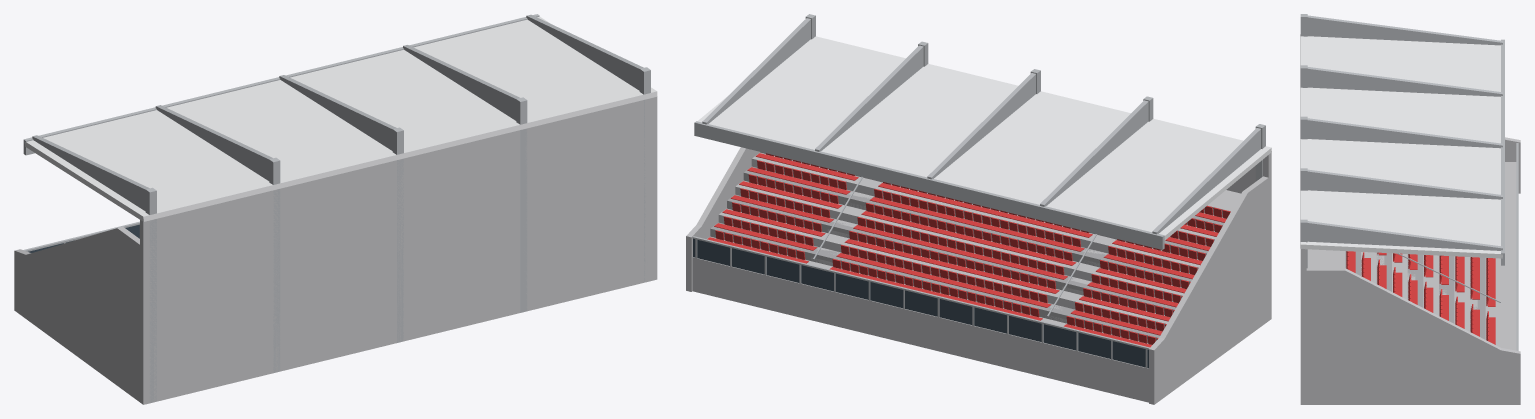
The model's file is grandstand.glb.
The picture shows the model from 3 angles, left to right: view 1: azimuth 30°, elevation 25°; view 2: azimuth 150°, elevation 25°; view 3: azimuth 270°, elevation 25°; orthographic projection. The views are drawn at different scales.
Parts seen in each view (by area): view 1: stand, roof; view 2: roof, stand, seats, stairs; view 3: roof, stand, seats, stairs.
Part boxes in pixels (bbox=[...]): stand: bbox=[14, 97, 657, 404]; roof: bbox=[23, 14, 657, 402]; roof: bbox=[694, 14, 1271, 249]; stand: bbox=[686, 147, 1271, 404]; seats: bbox=[707, 153, 1230, 347]; stairs: bbox=[811, 176, 1115, 325]; roof: bbox=[1300, 14, 1504, 268]; stand: bbox=[1300, 137, 1520, 404]; seats: bbox=[1346, 251, 1495, 344]; stairs: bbox=[1361, 252, 1500, 317].
Bounding box in the file's own units: 26 × 10.2 × 11.31.
